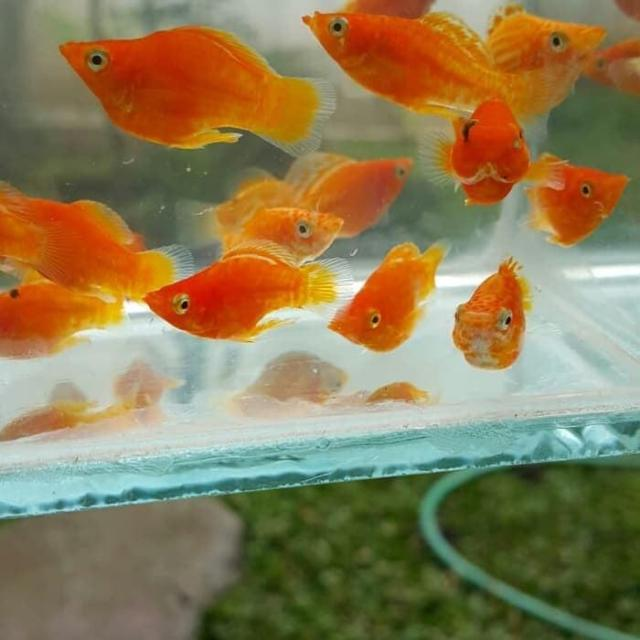PlatyFish: (49, 4, 339, 162), (294, 6, 549, 121), (131, 244, 339, 359), (316, 222, 464, 373), (522, 146, 633, 254), (453, 259, 538, 382)
